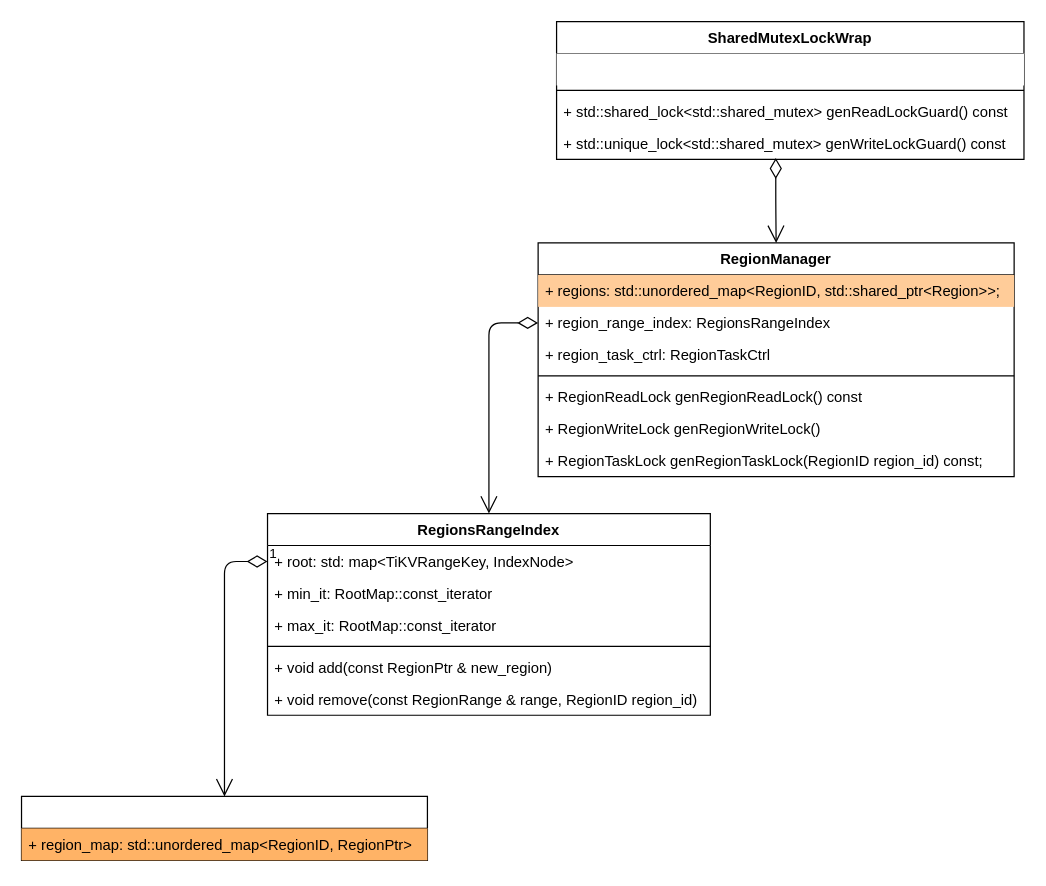
This 1046x886 diagram has some shape labels left out. Each missing label, with the box of its shape:
+ shared_mutex: std::shared_mutex: (556, 53, 1023, 85)
IndexNode: (20, 795, 427, 860)
